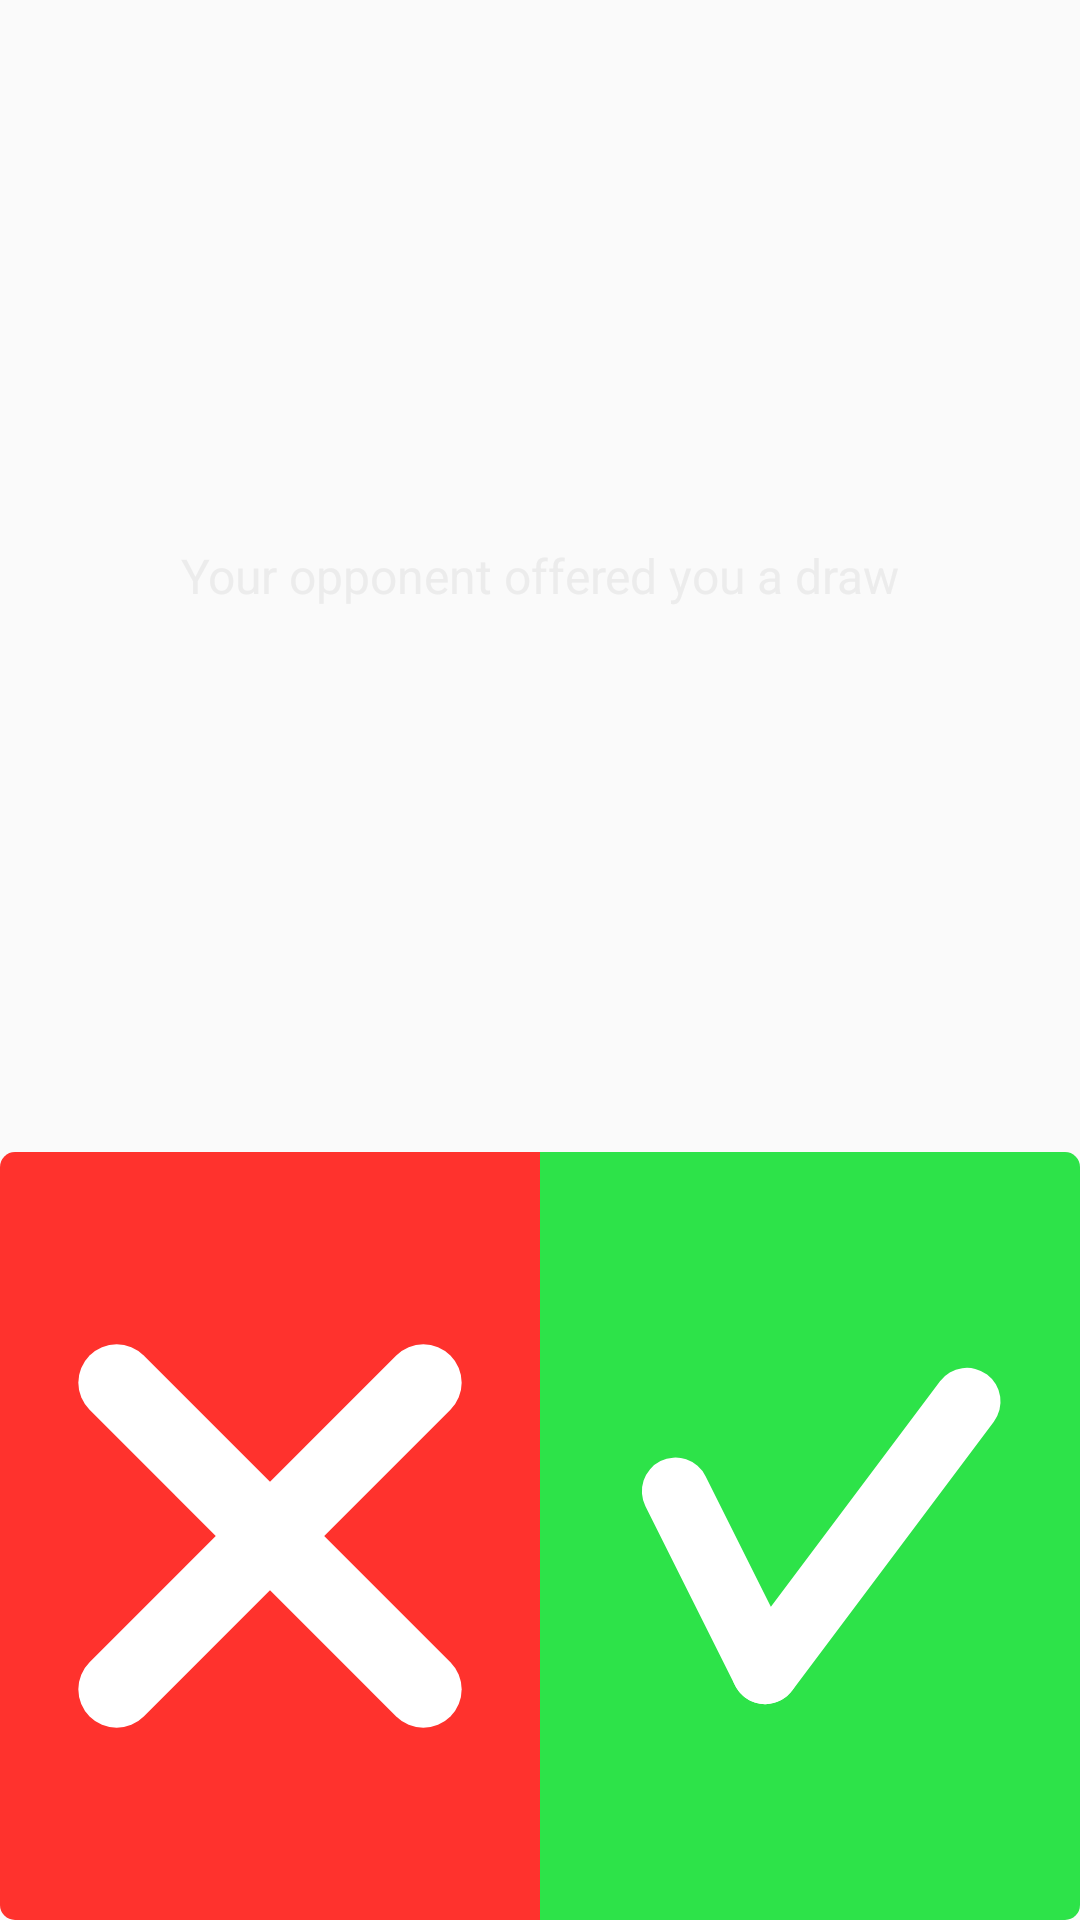

Named icons in this screenshot (1080px×1920px) and their centers, (x=x, y=y):
check mark: (x=821, y=1536)
